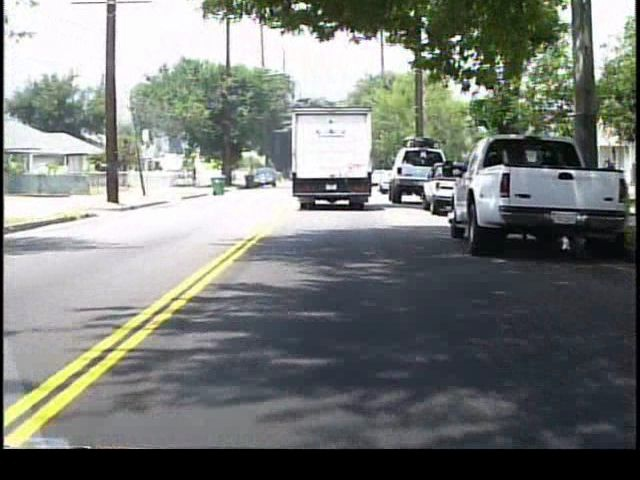person: (597, 156, 610, 200), (603, 156, 613, 204), (191, 163, 200, 186)
